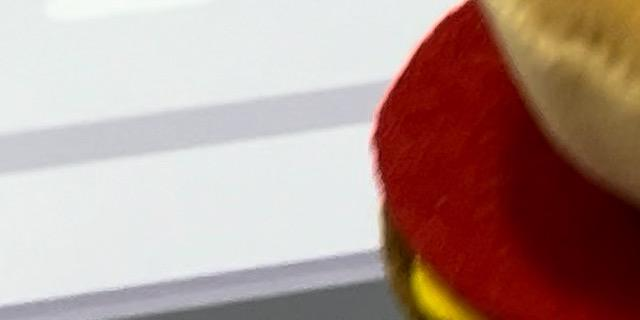burger: (341, 0, 640, 320)
